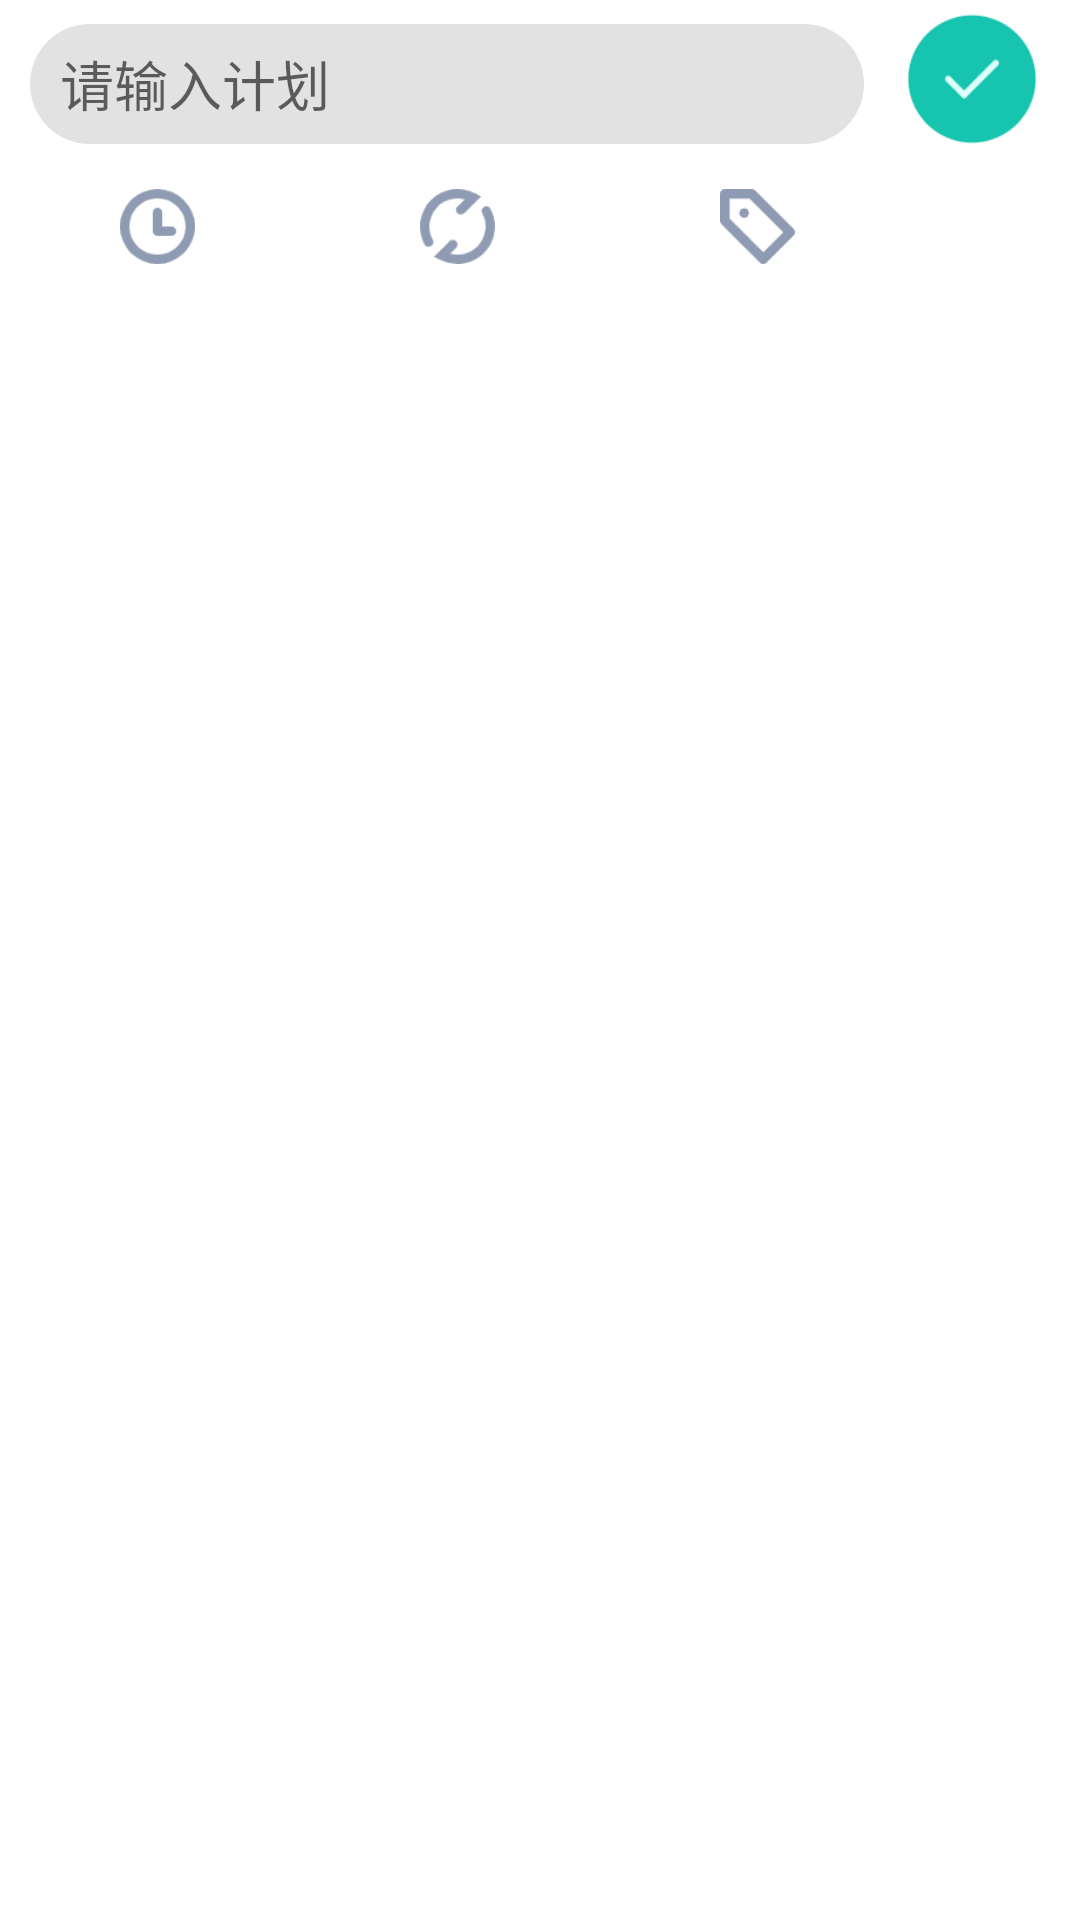

Where to tap for icons on this 1080×1920 app screen, as [x,y]:
check: [972,79]
repeat: [457,226]
tag: [757,226]
time: [157,226]
